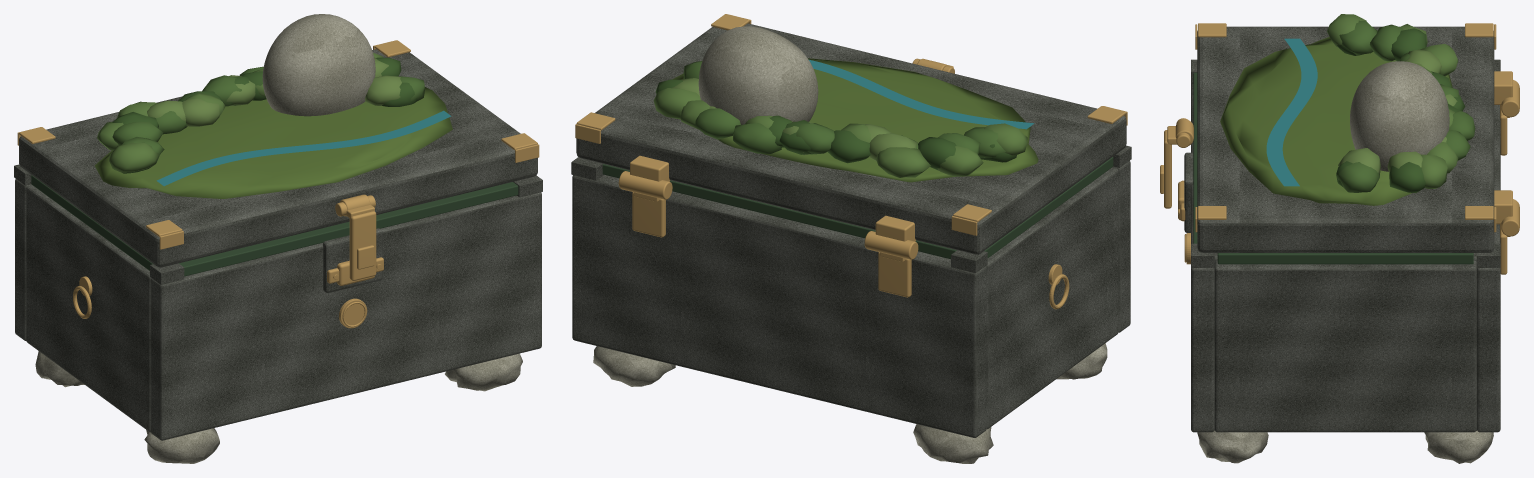
Rendered from suriname.glb.
3 renders of one model, left to right at view 1: azimuth 30°, elevation 25°; view 2: azimuth 150°, elevation 25°; view 3: azimuth 270°, elevation 25°, orthographic. The views are drawn at different scales.
Visible parts, largest first — view 1: Granite / body long, Lid / polished slab, Granite / body side, Terrain / island, Inselberg / bare granite dome, Mineral seam / long, River / connected inlay, Granite foot, Granite / body long.001, Granite foot.002, Latch / lifting hasp, Granite / clasp seat (+9 smaller); view 2: Granite / body long.001, Lid / polished slab, Granite / body side, Terrain / island, Inselberg / bare granite dome, Mineral seam / long.001, Granite / body long, Granite foot.001, Granite foot.003, River / connected inlay, Mineral seam / side, Forest / canopy 01 1 (+20 smaller); view 3: Granite / body side.001, Lid / polished slab, Terrain / island, Inselberg / bare granite dome, Granite / body long.001, Granite / body long, Mineral seam / side.001, River / connected inlay, Granite foot.002, Granite foot.003, Forest / canopy 07 2, Forest / canopy 06 2 (+25 smaller).
Part boxes in pixels (x1,y1,x2,y2): Granite / body long: (150, 192, 541, 440); Lid / polished slab: (19, 49, 537, 267); Granite / body side: (26, 185, 151, 432); Terrain / island: (94, 87, 452, 198); Inselberg / bare granite dome: (262, 14, 375, 116); Mineral seam / long: (179, 182, 518, 276); River / connected inlay: (156, 110, 451, 186); Granite foot: (144, 428, 219, 463); Granite / body long.001: (15, 179, 31, 340); Granite foot.002: (445, 353, 522, 391); Latch / lifting hasp: (349, 211, 376, 280); Granite / clasp seat: (323, 228, 382, 292); Granite / body long.001: (572, 174, 986, 437); Lid / polished slab: (576, 23, 1126, 254); Granite / body side: (986, 167, 1118, 429); Terrain / island: (672, 58, 1038, 182); Inselberg / bare granite dome: (698, 26, 818, 124); Mineral seam / long.001: (602, 164, 956, 259); Granite / body long: (1112, 160, 1130, 332); Granite foot.001: (913, 424, 993, 463); Granite foot.003: (593, 346, 675, 386); River / connected inlay: (809, 59, 1034, 129); Mineral seam / side: (984, 157, 1113, 257); Forest / canopy 01 1: (876, 147, 930, 177); Granite / body side.001: (1214, 260, 1476, 432); Lid / polished slab: (1197, 26, 1494, 252); Terrain / island: (1220, 37, 1452, 205); Inselberg / bare granite dome: (1350, 61, 1449, 171); Granite / body long.001: (1477, 105, 1500, 432); Granite / body long: (1191, 84, 1214, 432); Mineral seam / side.001: (1217, 253, 1473, 264); River / connected inlay: (1266, 38, 1317, 186); Granite foot.002: (1197, 430, 1268, 463); Granite foot.003: (1424, 430, 1493, 463); Forest / canopy 07 2: (1336, 162, 1379, 192); Forest / canopy 06 2: (1389, 162, 1425, 193).
Size of the model in its own units: 3.79 by 3.09 by 2.88.
10 materials, 2 textured.
